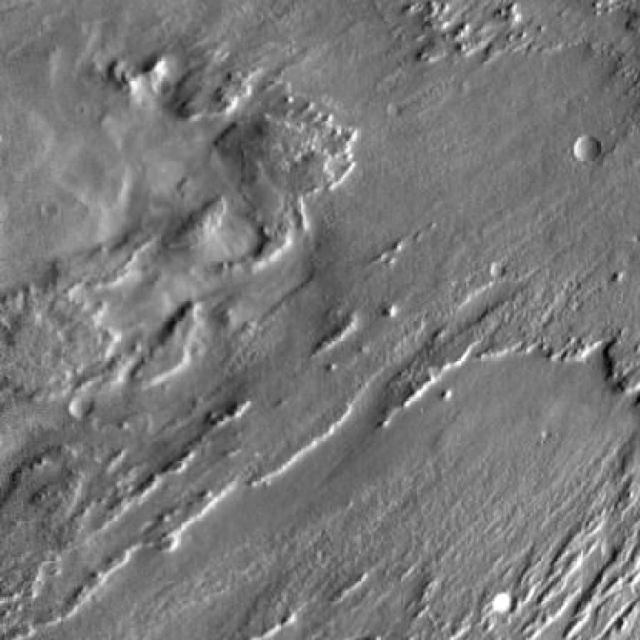crater: (574, 138, 601, 164), (69, 396, 91, 418), (491, 263, 507, 279)
